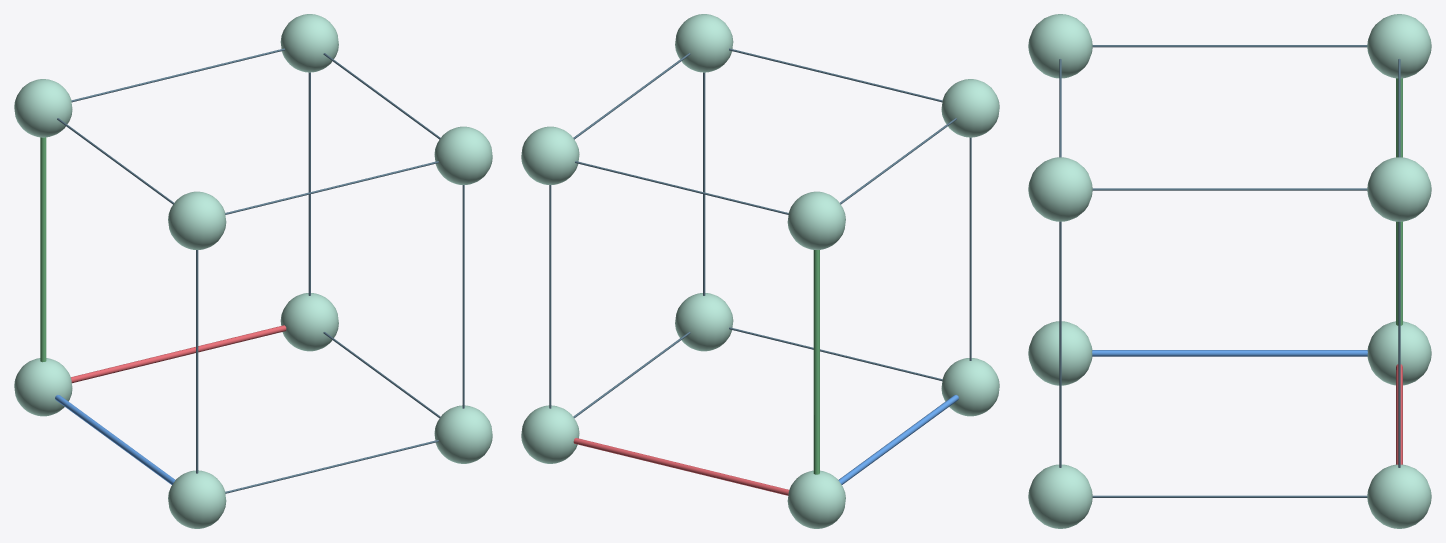
Rendered from nguyen-to-po.glb.
The picture shows the model from 3 angles, left to right: view 1: azimuth 30°, elevation 25°; view 2: azimuth 150°, elevation 25°; view 3: azimuth 270°, elevation 25°; orthographic projection. The views are drawn at different scales.
Parts seen in each view (by area): view 1: Po1 · Po · 1 (×8), Ô mạng và các trục a, b, c; view 2: Po1 · Po · 1 (×8), Ô mạng và các trục a, b, c; view 3: Po1 · Po · 1 (×8), Ô mạng và các trục a, b, c.
Part boxes in pixels (x1,y1,x2,y2): Po1 · Po · 1 (×8): (14, 14, 492, 528); Ô mạng và các trục a, b, c: (40, 48, 464, 493); Po1 · Po · 1 (×8): (521, 14, 999, 528); Ô mạng và các trục a, b, c: (549, 48, 971, 495); Po1 · Po · 1 (×8): (1028, 14, 1431, 528); Ô mạng và các trục a, b, c: (1059, 45, 1402, 497).
Bounding box in the file's own units: 4 × 4 × 4.
